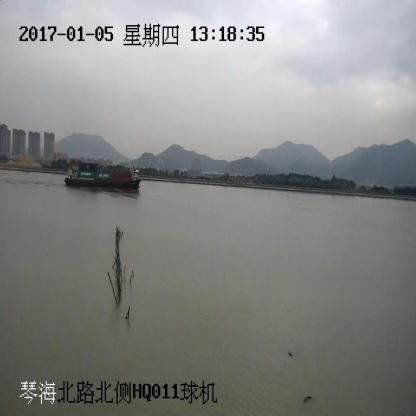Container Ship: (64, 160, 140, 189)
